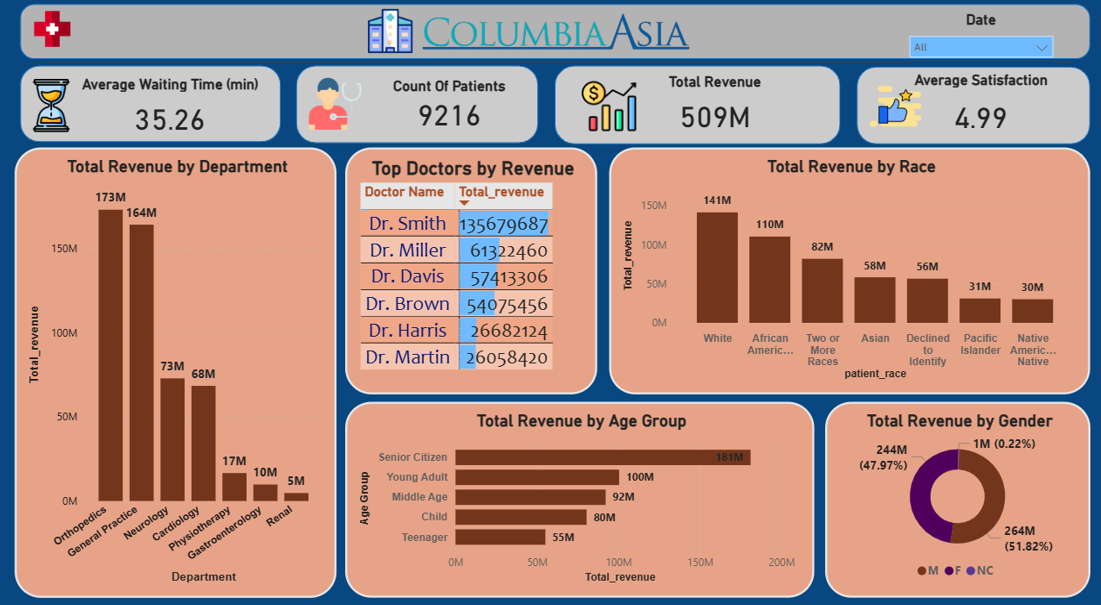

Layout of this report page (visuals, bound fields, positions):
{"tool":"powerbi","page":{"name":"Main","canvas":[1280,720],"ordinal":0},"visuals":[{"type":"shape","box":[0,0,1278.8,720],"z":0},{"type":"shape","box":[27.5,82.5,298.8,88.8],"z":1000},{"type":"shape","box":[343.8,82.5,277.5,90],"z":2000},{"type":"shape","box":[986.2,83.8,267.5,90],"z":3000},{"type":"shape","box":[27.5,11.2,1226.2,63.8],"z":4000},{"type":"image","box":[421.2,11.2,61.2,62.5],"z":5000},{"type":"image","box":[428.8,3.8,425,80],"z":6000},{"type":"shape","box":[640,82.5,327.5,91.2],"z":7000},{"type":"card","title":"Count Of Patients ","fields":{"Values":["All measures.Count_of_patients"]},"box":[427.5,96.2,183.8,62.5],"z":8000},{"type":"card","title":"Average Waiting Time (min)","fields":{"Values":["All measures.Average_waiting_time"]},"box":[63.8,93.8,271.2,77.5],"z":9000},{"type":"card","title":"Average Satisfaction ","fields":{"Values":["All measures.Average_satisfaction_score"]},"box":[978.8,88.8,300,83.8],"z":10000},{"type":"card","title":"Total Revenue ","fields":{"Values":["All measures.Total_revenue"]},"box":[738.8,91.2,170,77.5],"z":11000},{"type":"slicer","title":"Date ","fields":{"Values":["Hospital Info.date"]},"box":[1036.2,18.8,185,63.8],"z":12000},{"type":"barChart","title":"Total Revenue by Age Group","fields":{"Category":["Hospital Info.Age Group"],"Y":["All measures.Total_revenue"]},"box":[400,472.5,537.5,227.5],"z":13000},{"type":"columnChart","title":"Total Revenue by Race","fields":{"Category":["Hospital Info.patient_race"],"Y":["All measures.Total_revenue"]},"box":[702.5,177.5,551.2,286.2],"z":14000},{"type":"clusteredColumnChart","title":"Total Revenue by Department","fields":{"Y":["All measures.Total_revenue"],"Category":["Hospital Info.department_referral"]},"box":[21.2,177.5,368.8,522.5],"z":15000},{"type":"pieChart","title":"Total Revenue by Gender","fields":{"Category":["Hospital Info.patient_gender"],"Y":["All measures.Total_revenue"]},"box":[950,472.5,303.8,227.5],"z":16000},{"type":"tableEx","title":"Top Doctors by Revenue ","fields":{"Values":["Doctor Info.Doctor Name","All measures.Total_revenue"]},"box":[400,177.5,288.8,286.2],"z":17000},{"type":"image","box":[350,90,77.5,73.8],"z":18000},{"type":"image","box":[27.5,90,71.2,77.5],"z":19000},{"type":"image","box":[666.2,88.8,72.5,81.2],"z":20000},{"type":"image","box":[996.2,93.8,68.8,72.5],"z":21000},{"type":"image","box":[38.8,11.2,51.2,57.5],"z":22000}]}

Visuals, with their boxes in screenshot pixels (x1, y1, x2, y2), scaled from the page's 1280x720 canvas onto the 1101x605 screenshot:
shape: [0, 0, 1100, 604]
shape: [24, 69, 281, 144]
shape: [296, 69, 534, 145]
shape: [848, 70, 1078, 146]
shape: [24, 9, 1078, 63]
image: [362, 9, 415, 62]
image: [369, 3, 734, 70]
shape: [550, 69, 832, 146]
"Count Of Patients " card: [368, 81, 526, 133]
"Average Waiting Time (min)" card: [55, 79, 288, 144]
"Average Satisfaction " card: [842, 75, 1100, 145]
"Total Revenue " card: [635, 77, 782, 142]
"Date " slicer: [891, 16, 1050, 69]
"Total Revenue by Age Group" barChart: [344, 397, 806, 588]
"Total Revenue by Race" columnChart: [604, 149, 1078, 390]
"Total Revenue by Department" clusteredColumnChart: [18, 149, 335, 588]
"Total Revenue by Gender" pieChart: [817, 397, 1078, 588]
"Top Doctors by Revenue " tableEx: [344, 149, 592, 390]
image: [301, 76, 368, 138]
image: [24, 76, 85, 141]
image: [573, 75, 635, 143]
image: [857, 79, 916, 140]
image: [33, 9, 77, 58]
